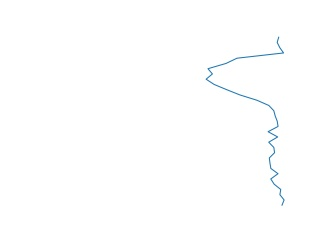distalBar: (200, 37, 292, 205)
